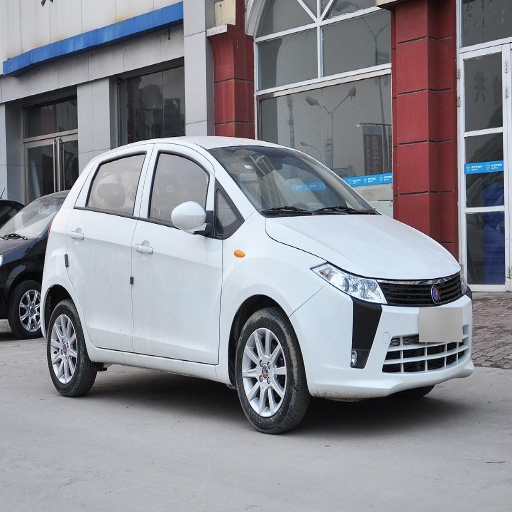front_bumper: (293, 269, 472, 400)
front_right_door: (133, 147, 223, 363)
front_right_light: (311, 259, 380, 301)
